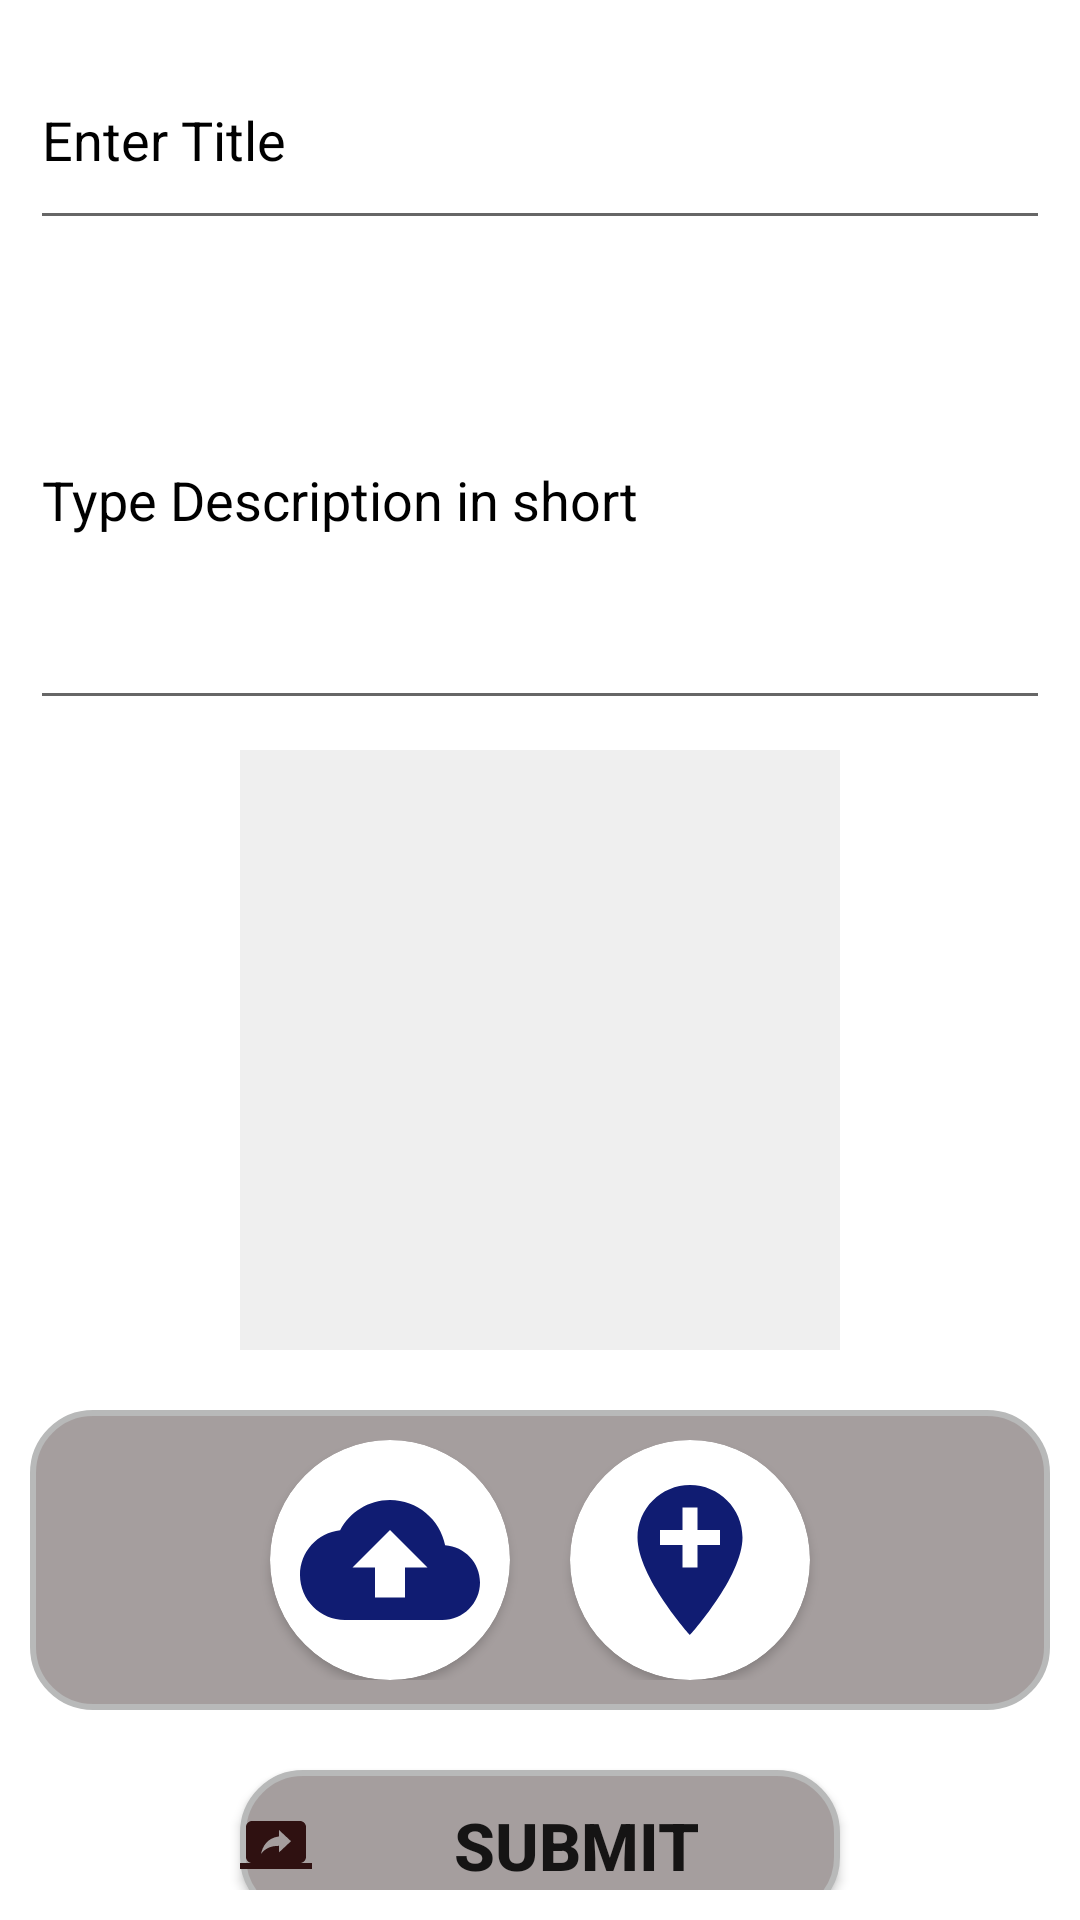

Locate icon controls on the screen. Image size 1080x1920, boxes as box(x1, y1, x2, y2).
add location: box(637, 1485, 743, 1635)
cloud upload: box(300, 1500, 480, 1620)
